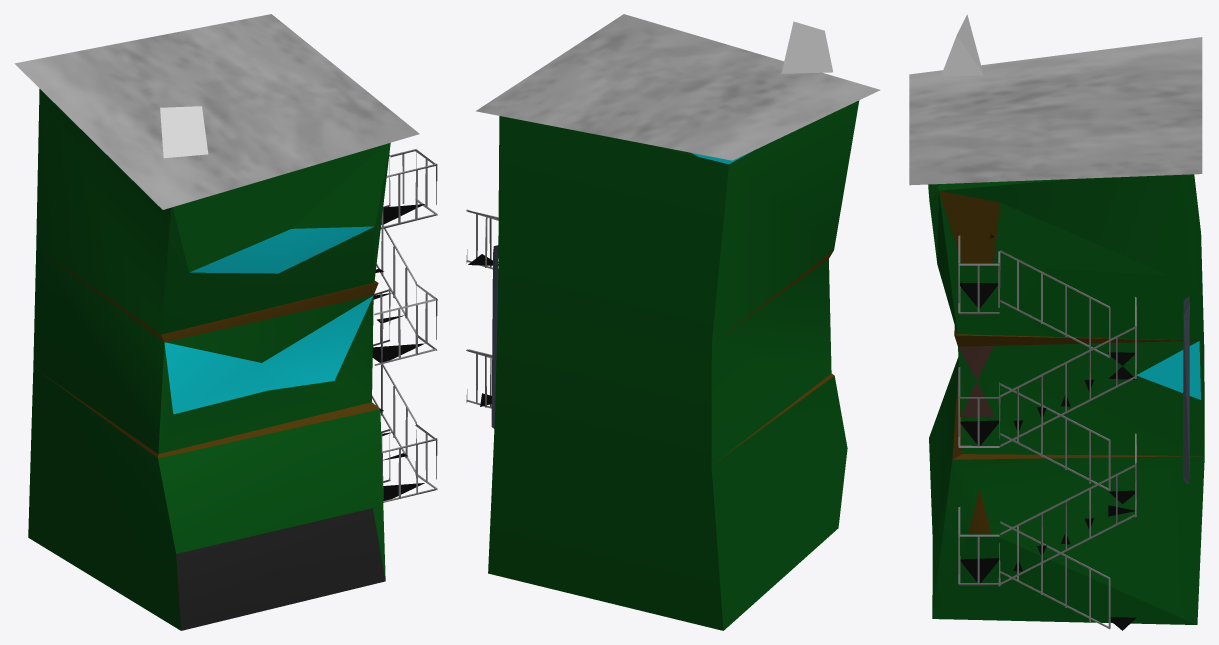
File: PredioTorto-VerdeLOD2.fbx
3 views of the same model, side by side, from view 1: azimuth 30°, elevation 25°; view 2: azimuth 150°, elevation 25°; view 3: azimuth 270°, elevation 25° (orthographic).
Visible parts, largest first — view 1: Predio3AndaresLOD2; view 2: Predio3AndaresLOD2; view 3: Predio3AndaresLOD2.
Part boxes in pixels (left/top/right/bottom): Predio3AndaresLOD2: left=14, top=14, right=437, bottom=630; Predio3AndaresLOD2: left=466, top=14, right=880, bottom=630; Predio3AndaresLOD2: left=909, top=14, right=1204, bottom=630.
Size of the model in its own units: 1025 by 1669 by 885.
